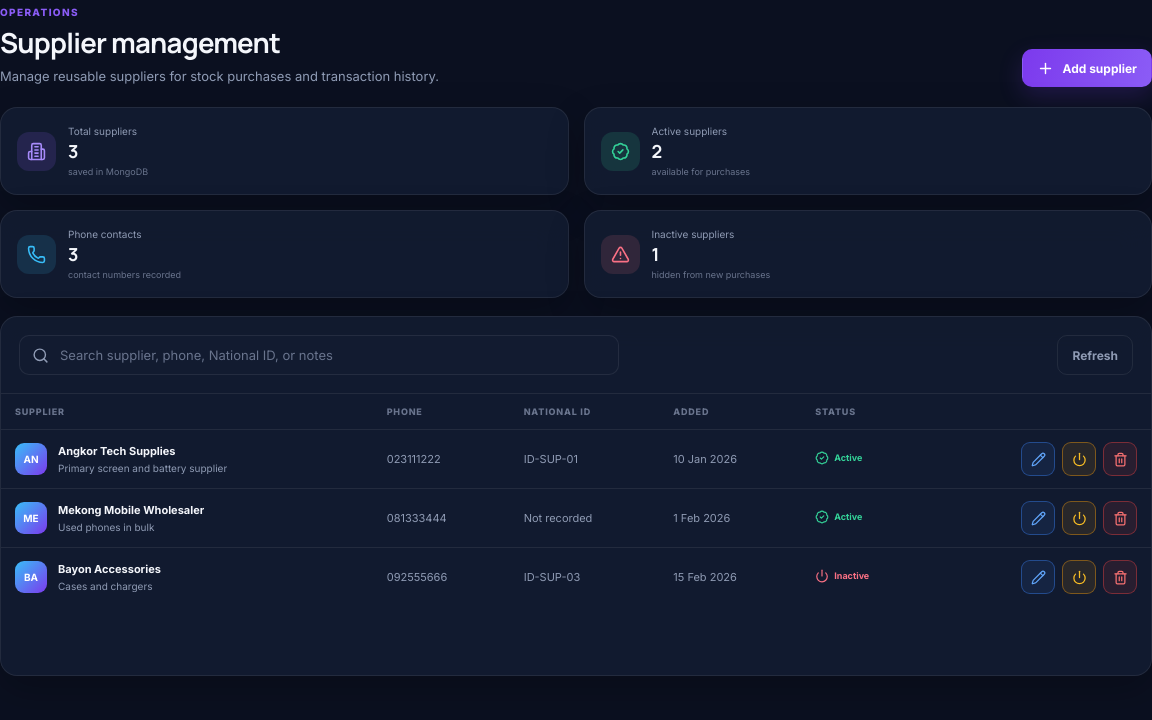
SupplierWorkspace Regression & Workflow Tests › 9. Failed deletion keeps record visible and shows error inside the dialog
Expected: the text "Angkor Tech Supplies" is shown, [58,444,176,458]
Click the button named "Delete Angkor Tech Supplies" at (1120, 459), box [1103,442,1137,476]
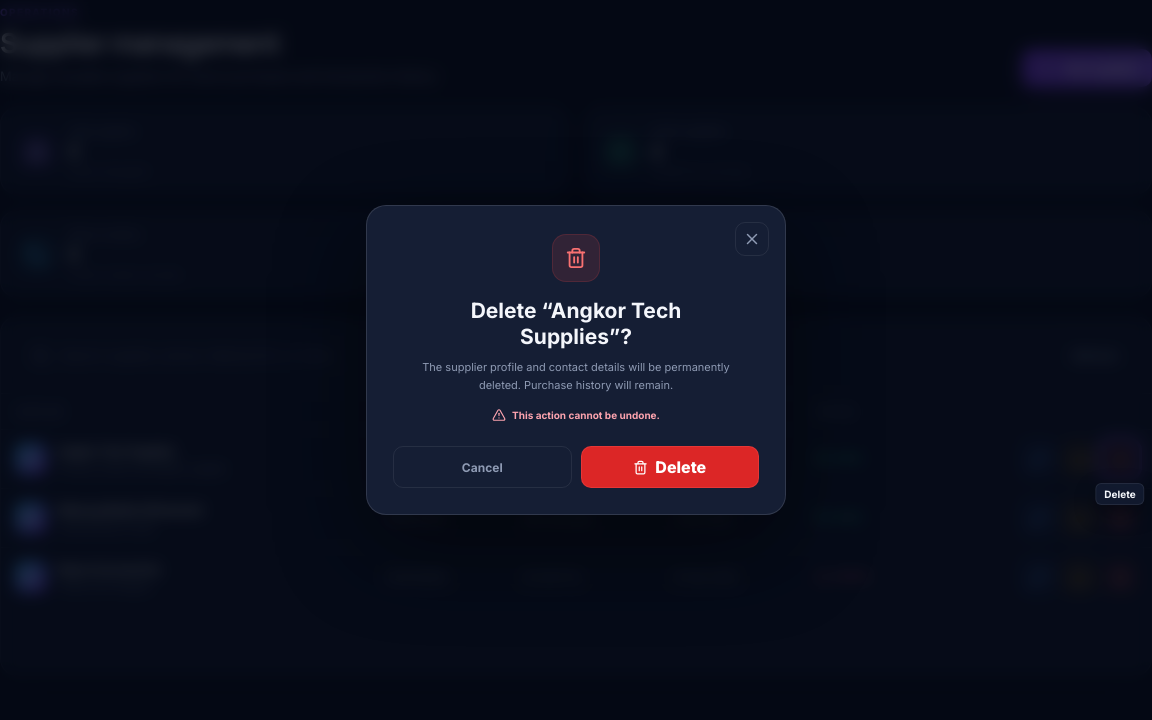
Click the button "Delete" at (670, 467), box [580,446,759,488]
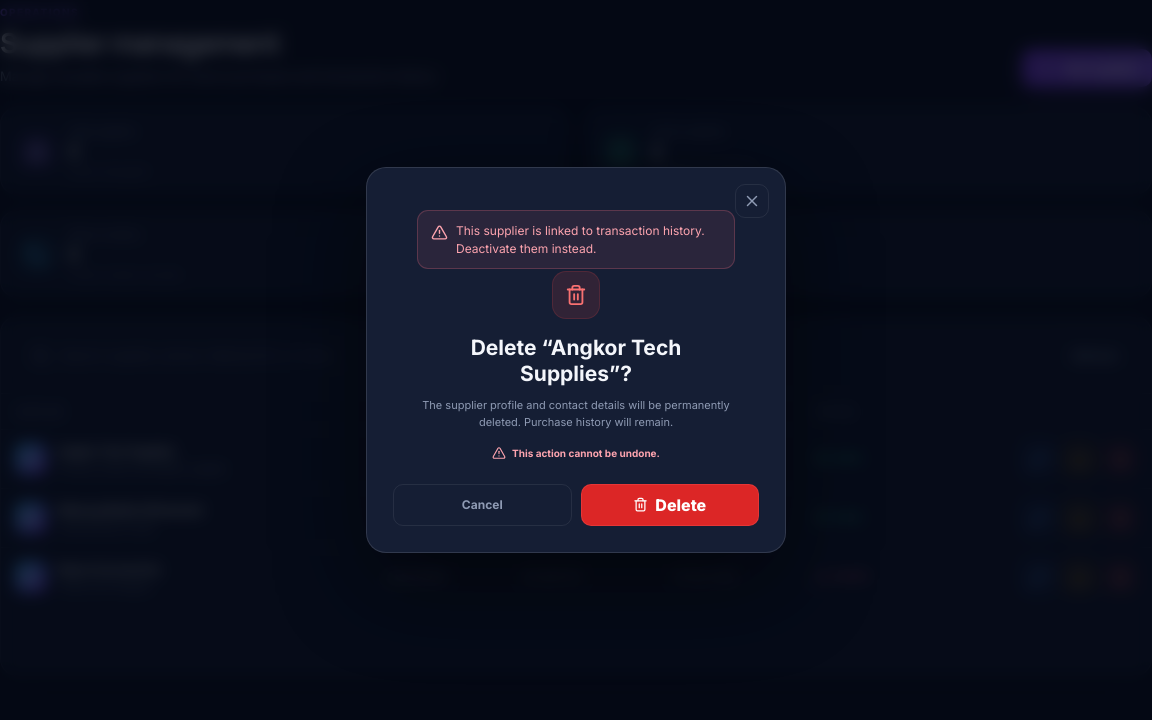
Expected: the dialog is shown, [366,167,786,553]
Expected: the text "This supplier is linked to transaction history" is shown, [456,223,705,256]
